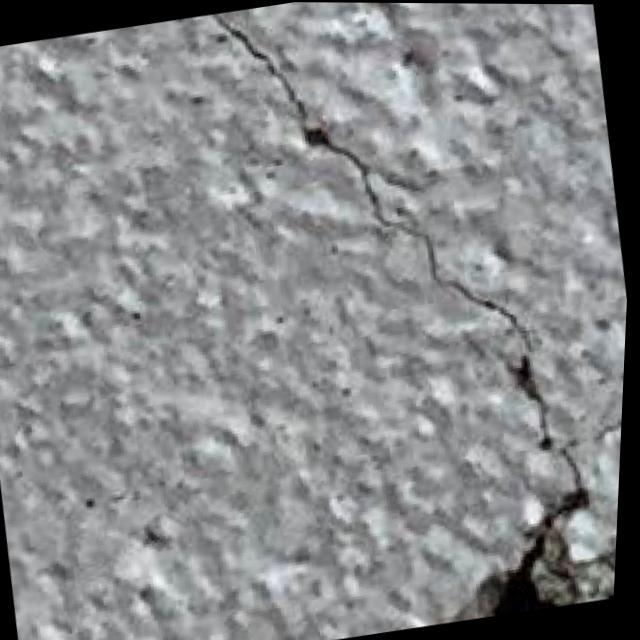Crack: (179, 1, 640, 640)
